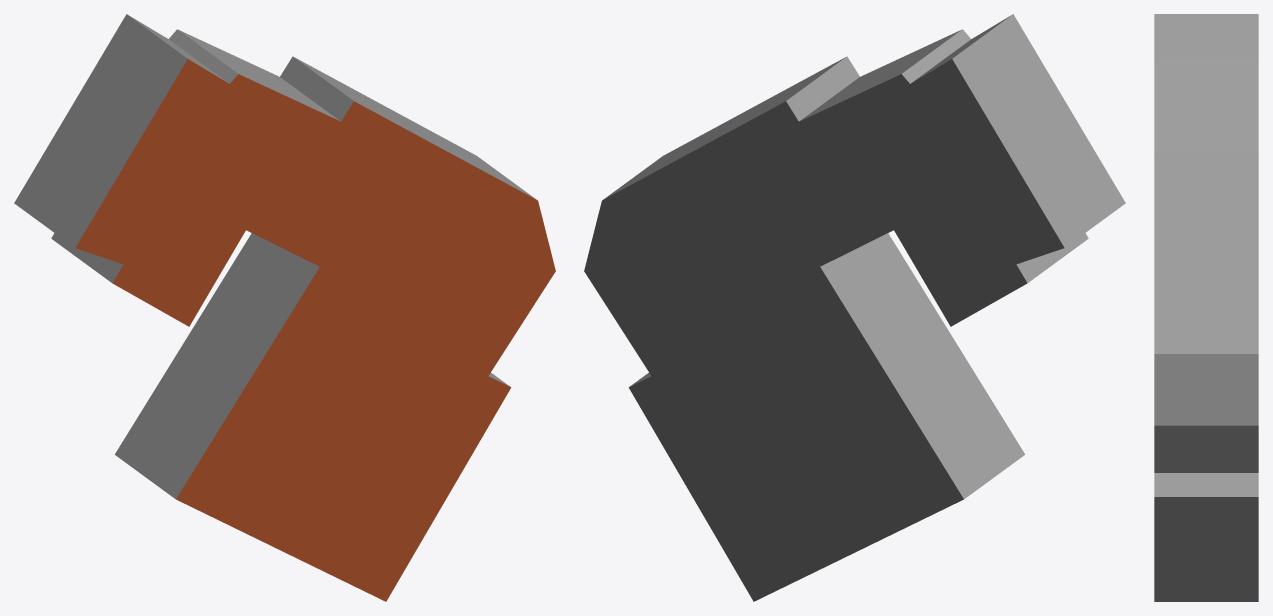
Rendered from construction_2864_assumed_A_Casa_h6m.obj.
3 views of the same model, side by side, from view 1: azimuth 30°, elevation 25°; view 2: azimuth 150°, elevation 25°; view 3: azimuth 270°, elevation 25° (orthographic). The views are drawn at different scales.
Parts seen in each view (by area): view 1: construction_2864_assumed_A_Casa; view 2: construction_2864_assumed_A_Casa; view 3: construction_2864_assumed_A_Casa.
Part boxes in pixels (left/top/right/bottom): construction_2864_assumed_A_Casa: left=14, top=14, right=555, bottom=601; construction_2864_assumed_A_Casa: left=584, top=14, right=1125, bottom=601; construction_2864_assumed_A_Casa: left=1154, top=14, right=1258, bottom=601.
Size of the model in its own units: 27.19 by 31.98 by 6.
